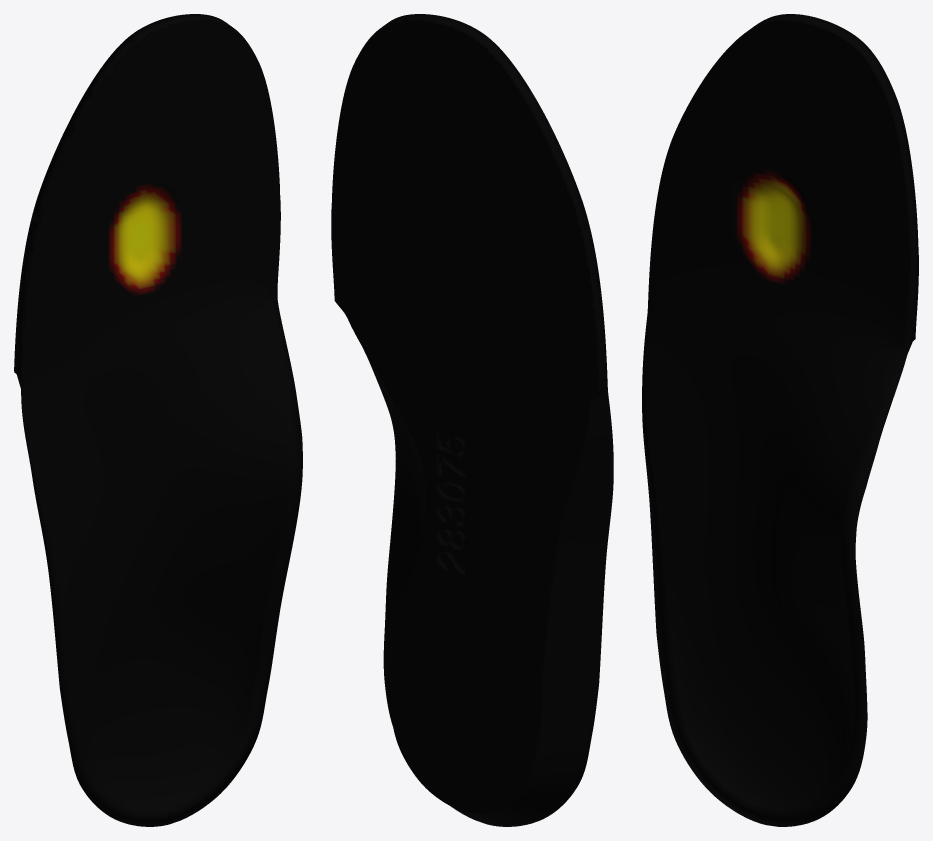
File: PAIR-OFFLOAD-3RD_LEFT.glb
3 renders of one model, left to right at view 1: azimuth 30°, elevation 25°; view 2: azimuth 150°, elevation 25°; view 3: azimuth 330°, elevation 25°, orthographic. The views are drawn at different scales.
Parts seen in each view (by area): view 1: world; view 2: world; view 3: world.
Boxes of the visible parts, x1=… form: world: x1=14, y1=14, x2=302, y2=826; world: x1=331, y1=14, x2=613, y2=826; world: x1=642, y1=14, x2=918, y2=826.
Size of the model in its own units: 95.63 by 275 by 28.76.
